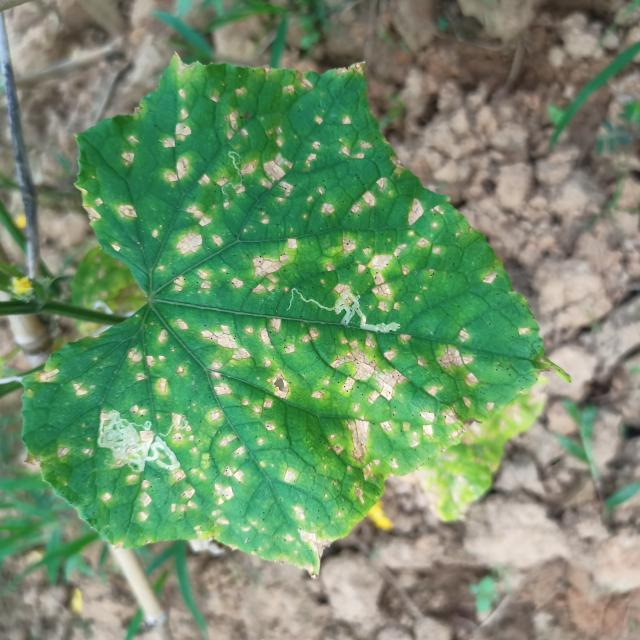disease_cucumber: (70, 81, 500, 548)
